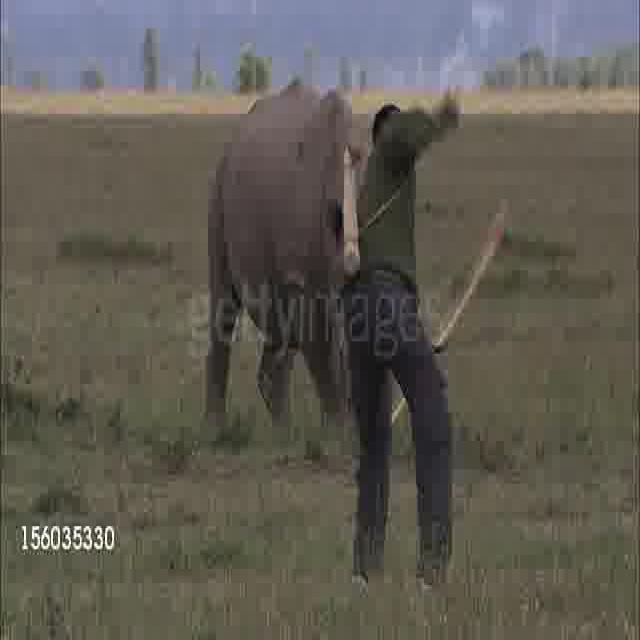poacher: (213, 172, 427, 568)
weapon: (36, 247, 302, 286)
